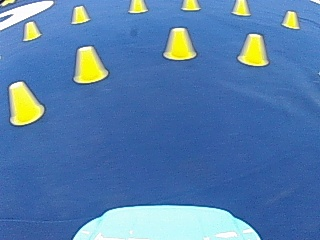cone: (7, 80, 43, 125), (72, 44, 107, 84), (163, 27, 196, 60), (237, 32, 269, 66), (22, 20, 41, 40), (281, 10, 299, 29), (71, 5, 89, 24), (232, 0, 250, 16), (129, 0, 146, 13), (182, 0, 199, 10)
